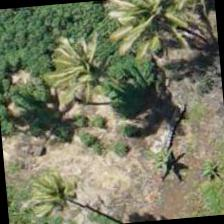Kelapa_Sawit: (40, 19, 138, 117), (115, 0, 211, 59)
